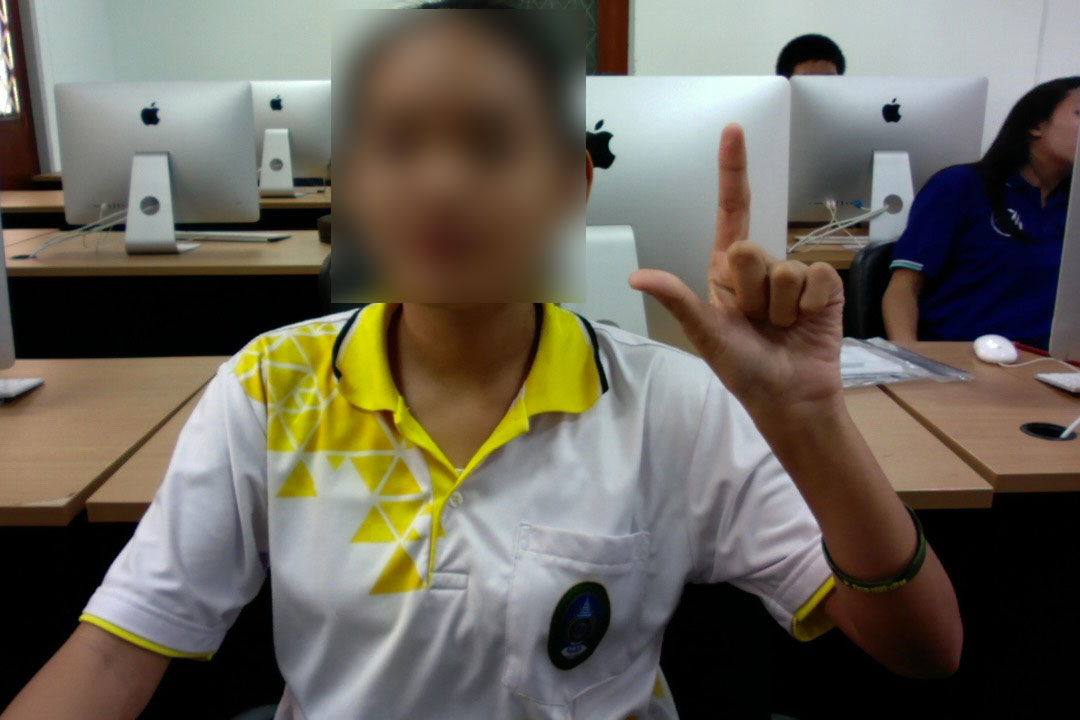lor: (606, 114, 877, 425)
